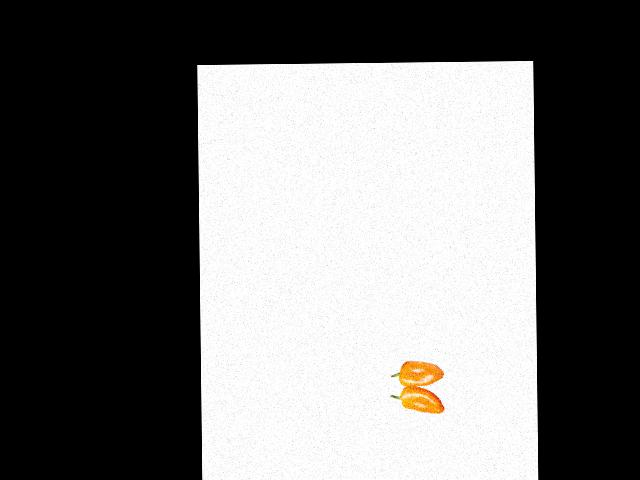bell_pepper: (389, 354, 454, 387)
